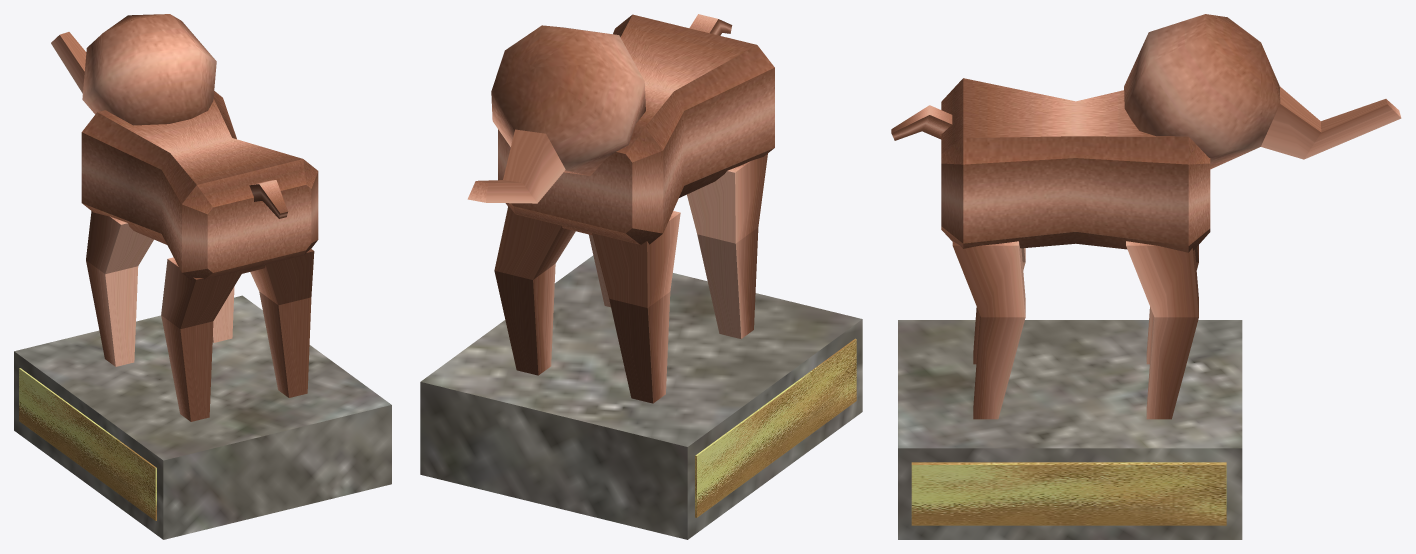
The model's file is elephant.FBX.
The picture shows the model from 3 angles, left to right: view 1: azimuth 30°, elevation 25°; view 2: azimuth 150°, elevation 25°; view 3: azimuth 270°, elevation 25°; orthographic projection. The views are drawn at different scales.
Parts seen in each view (by area): view 1: Box001, Box002, Object001, Sphere001, Box004, Box003; view 2: Box001, Box002, Object001, Sphere001, Box004, Box003; view 3: Box001, Box002, Sphere001, Box005, Object001, Box003.
Boxes of the visible parts, bbox=[...] form: Box001: bbox=[14, 295, 391, 539]; Box002: bbox=[81, 91, 318, 280]; Object001: bbox=[86, 211, 314, 421]; Sphere001: bbox=[51, 14, 216, 125]; Box004: bbox=[19, 368, 156, 520]; Box003: bbox=[249, 180, 287, 218]; Box001: bbox=[420, 255, 862, 539]; Box002: bbox=[498, 14, 774, 244]; Object001: bbox=[494, 153, 767, 403]; Sphere001: bbox=[467, 25, 645, 203]; Box004: bbox=[695, 338, 856, 517]; Box003: bbox=[689, 14, 732, 35]; Box001: bbox=[898, 320, 1242, 539]; Box002: bbox=[941, 78, 1210, 252]; Sphere001: bbox=[1124, 14, 1401, 169]; Box005: bbox=[911, 462, 1226, 525]; Object001: bbox=[952, 241, 1198, 419]; Box003: bbox=[891, 105, 952, 140].
Size of the model in its own units: 490 by 793 by 800.
Materials: 3 (3 with a texture image).
